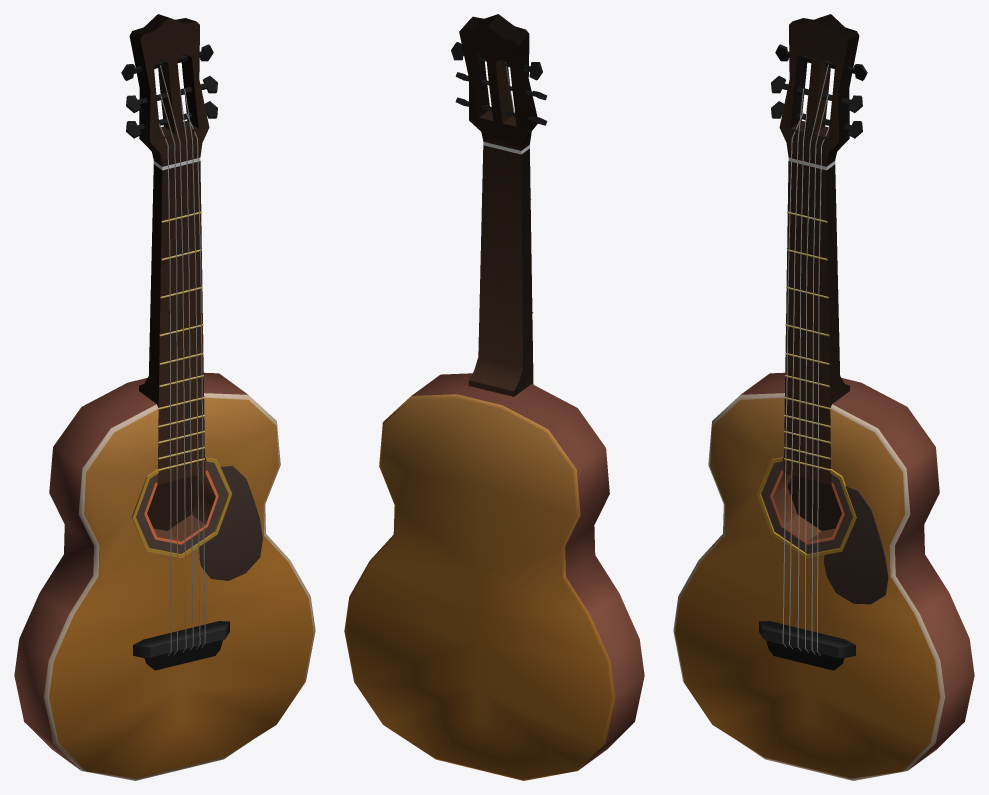
The model's file is HG_CU_Guitar_001.FBX.
3 renders of one model, left to right at view 1: azimuth 30°, elevation 25°; view 2: azimuth 150°, elevation 25°; view 3: azimuth 330°, elevation 25°, orthographic.
Visible parts, largest first — view 1: HG_CU_Guitar_001; view 2: HG_CU_Guitar_001; view 3: HG_CU_Guitar_001.
Part boxes in pixels (x1,y1,x2,y2): HG_CU_Guitar_001: (14, 14, 315, 780); HG_CU_Guitar_001: (344, 14, 644, 780); HG_CU_Guitar_001: (673, 14, 974, 780).
Bounding box in the file's own units: 28.3 × 7.19 × 74.08.
